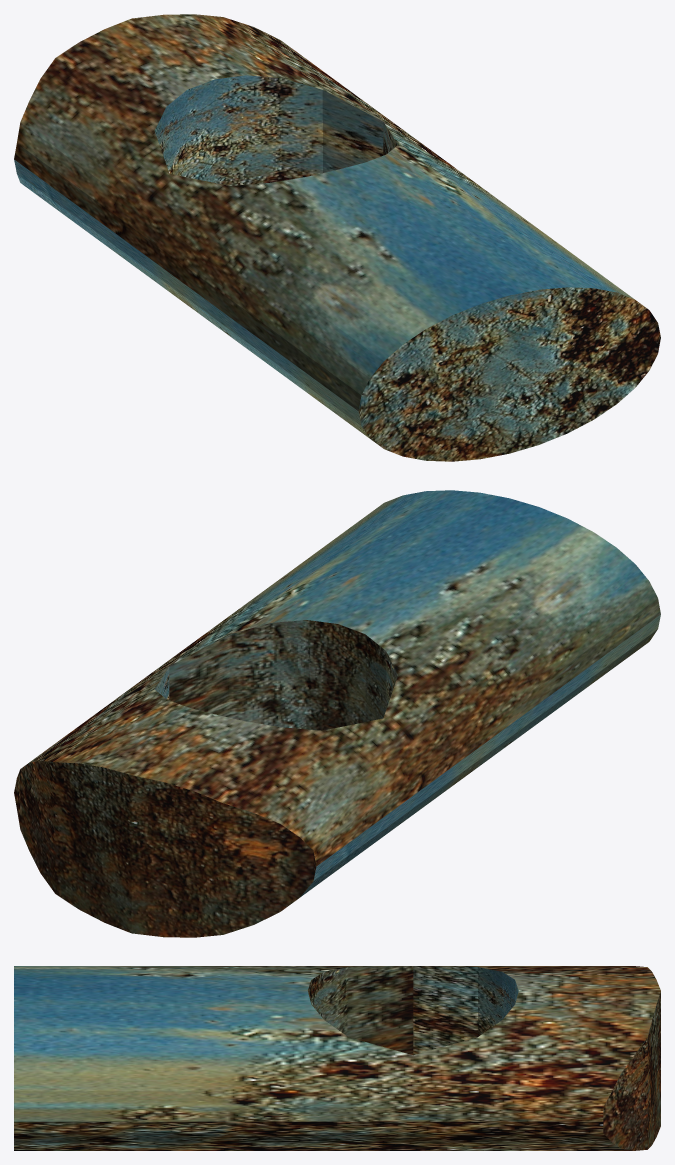
The model's file is SwivleBarrel.obj.
The picture shows the model from 3 angles, top to bottom: view 1: azimuth 30°, elevation 25°; view 2: azimuth 150°, elevation 25°; view 3: azimuth 270°, elevation 25°; orthographic projection. The views are drawn at different scales.
Visible parts, largest first — view 1: Cylinder; view 2: Cylinder; view 3: Cylinder.
Part boxes in pixels (x1,y1,x2,y2): Cylinder: (14, 14, 660, 461); Cylinder: (14, 490, 660, 937); Cylinder: (14, 966, 660, 1150).
Size of the model in its own units: 3.37 by 1.69 by 7.31.
1 material, 1 textured.
